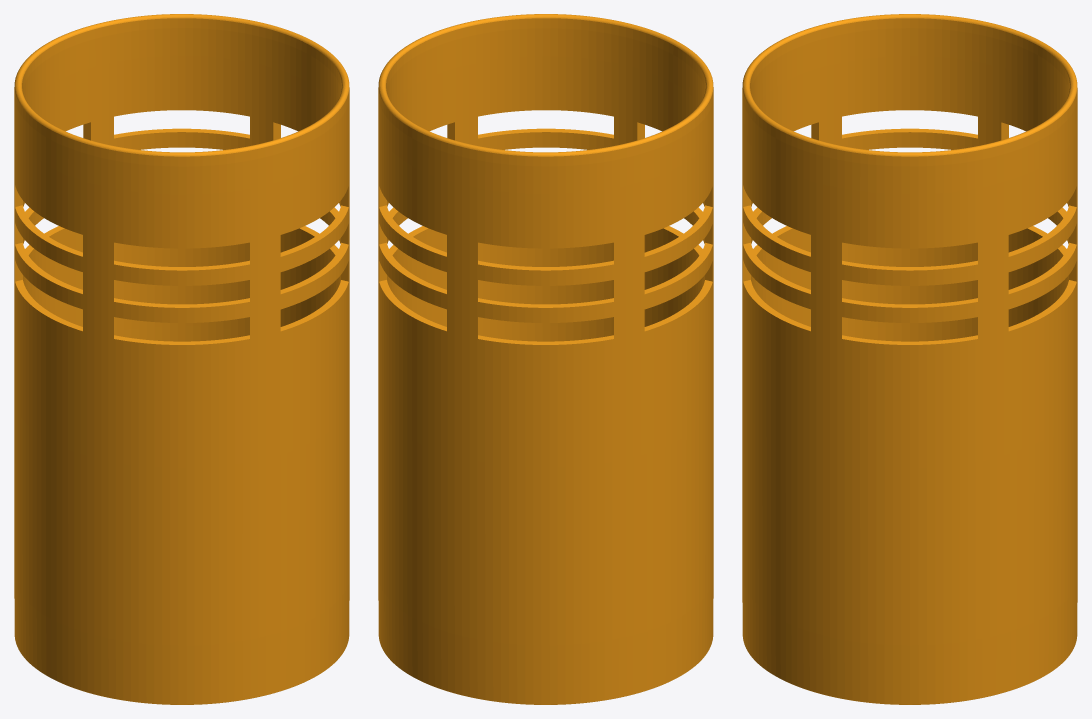
File: trash2fbx.FBX
The picture shows the model from 3 angles, left to right: view 1: azimuth 30°, elevation 25°; view 2: azimuth 150°, elevation 25°; view 3: azimuth 270°, elevation 25°; orthographic projection.
Visible parts, largest first — view 1: Archinteri; view 2: Archinteri; view 3: Archinteri.
Boxes of the visible parts, x1,y1,x2,y2 form: Archinteri: (14, 14, 349, 704); Archinteri: (378, 14, 713, 704); Archinteri: (742, 14, 1077, 704).
Size of the model in its own units: 82 by 149 by 82.
